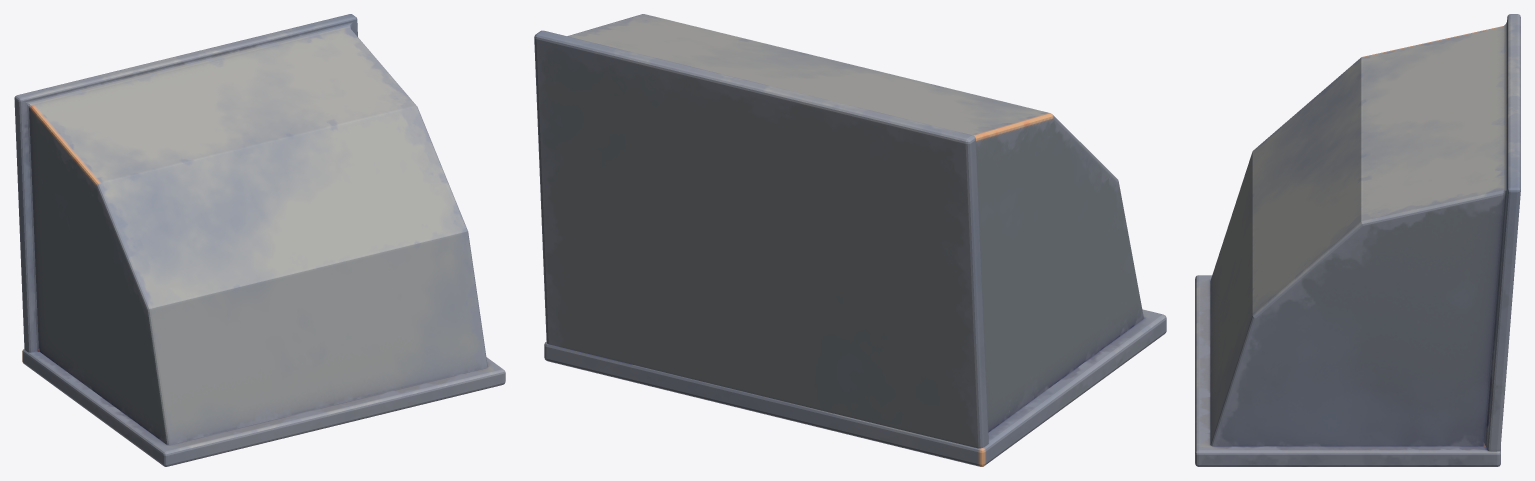
File: DutoArCurvado.fbx
3 renders of one model, left to right at view 1: azimuth 30°, elevation 25°; view 2: azimuth 150°, elevation 25°; view 3: azimuth 270°, elevation 25°, orthographic. The views are drawn at different scales.
Visible parts, largest first — view 1: DutoArCurvado; view 2: DutoArCurvado; view 3: DutoArCurvado.
Part boxes in pixels (x1,y1,x2,y2): DutoArCurvado: (14, 14, 505, 466); DutoArCurvado: (534, 14, 1166, 466); DutoArCurvado: (1195, 14, 1520, 466).
Bounding box in the file's own units: 0.5641 × 0.4117 × 0.4368.
